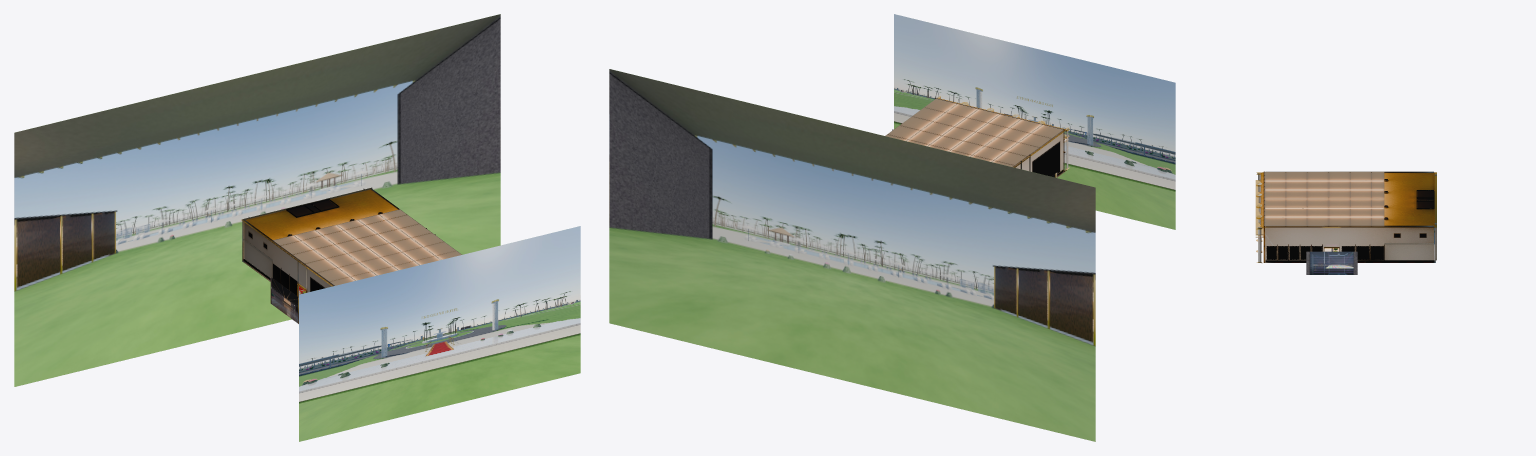
The model's file is int_eko_lobby.glb.
3 renders of one model, left to right at view 1: azimuth 30°, elevation 25°; view 2: azimuth 150°, elevation 25°; view 3: azimuth 270°, elevation 25°, orthographic. The views are drawn at different scales.
Visible parts, largest first — view 1: VIEW_back, VIEW_front, ROOM, VIEW_wine; view 2: VIEW_back, VIEW_front, ROOM; view 3: ROOM, VIEW_club.
Boxes of the visible parts, left/top/right/bottom form: VIEW_back: left=14, top=14, right=500, bottom=386; VIEW_front: left=299, top=226, right=580, bottom=441; ROOM: left=241, top=187, right=461, bottom=296; VIEW_wine: left=270, top=277, right=298, bottom=323; VIEW_back: left=609, top=69, right=1095, bottom=441; VIEW_front: left=894, top=14, right=1175, bottom=229; ROOM: left=885, top=96, right=1069, bottom=176; ROOM: left=1255, top=171, right=1436, bottom=262; VIEW_club: left=1306, top=251, right=1357, bottom=274.
Size of the model in its own units: 114 by 57 by 74.
6 materials, 5 textured.
